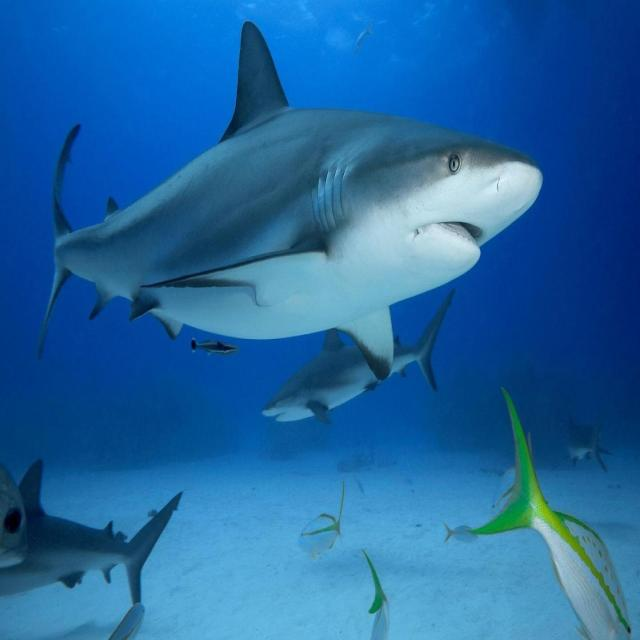shark: (38, 21, 542, 378), (0, 460, 181, 607), (263, 330, 380, 423)
